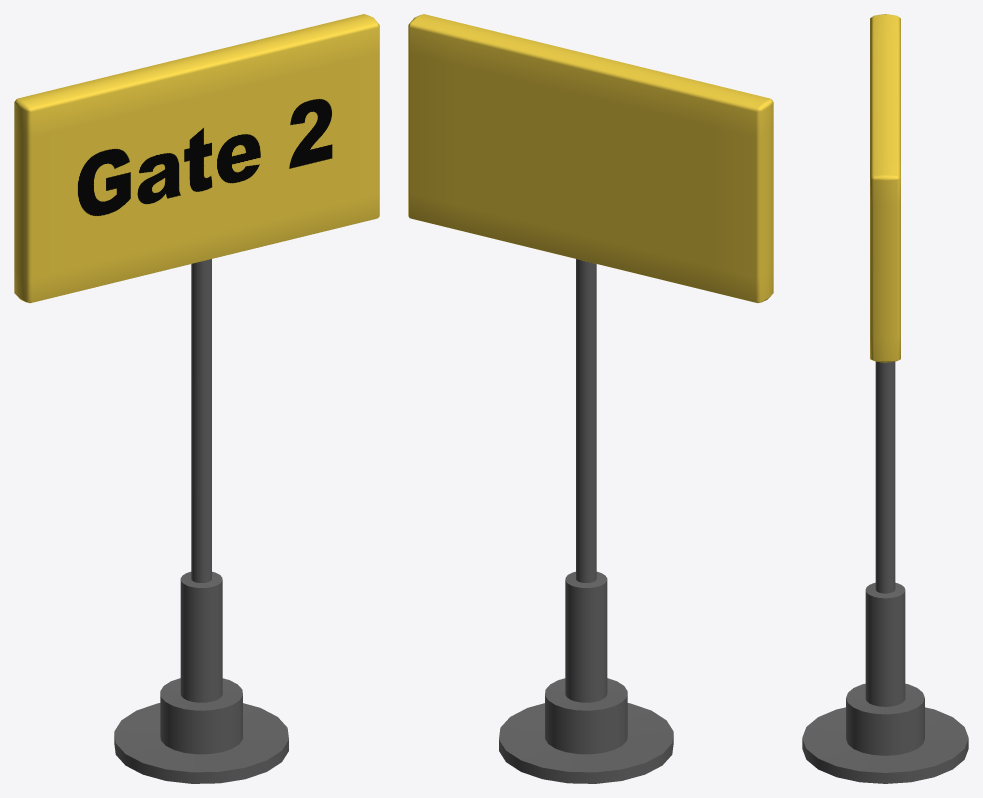
The model's file is Gate_2.fbx.
The picture shows the model from 3 angles, left to right: view 1: azimuth 30°, elevation 25°; view 2: azimuth 150°, elevation 25°; view 3: azimuth 270°, elevation 25°; orthographic projection. The views are drawn at different scales.
Visible parts, largest first — view 1: pCube2, pCylinder2; view 2: pCube2, pCylinder2; view 3: pCylinder2, pCube2.
Boxes of the visible parts, x1,y1,x2,y2 form: pCube2: (14,14,379,303); pCylinder2: (114,259,288,783); pCube2: (408,14,773,303); pCylinder2: (499,259,673,783); pCylinder2: (802,361,968,783); pCube2: (870,14,900,362).
Bounding box in the file's own units: 4.05 × 7.5 × 1.73.
